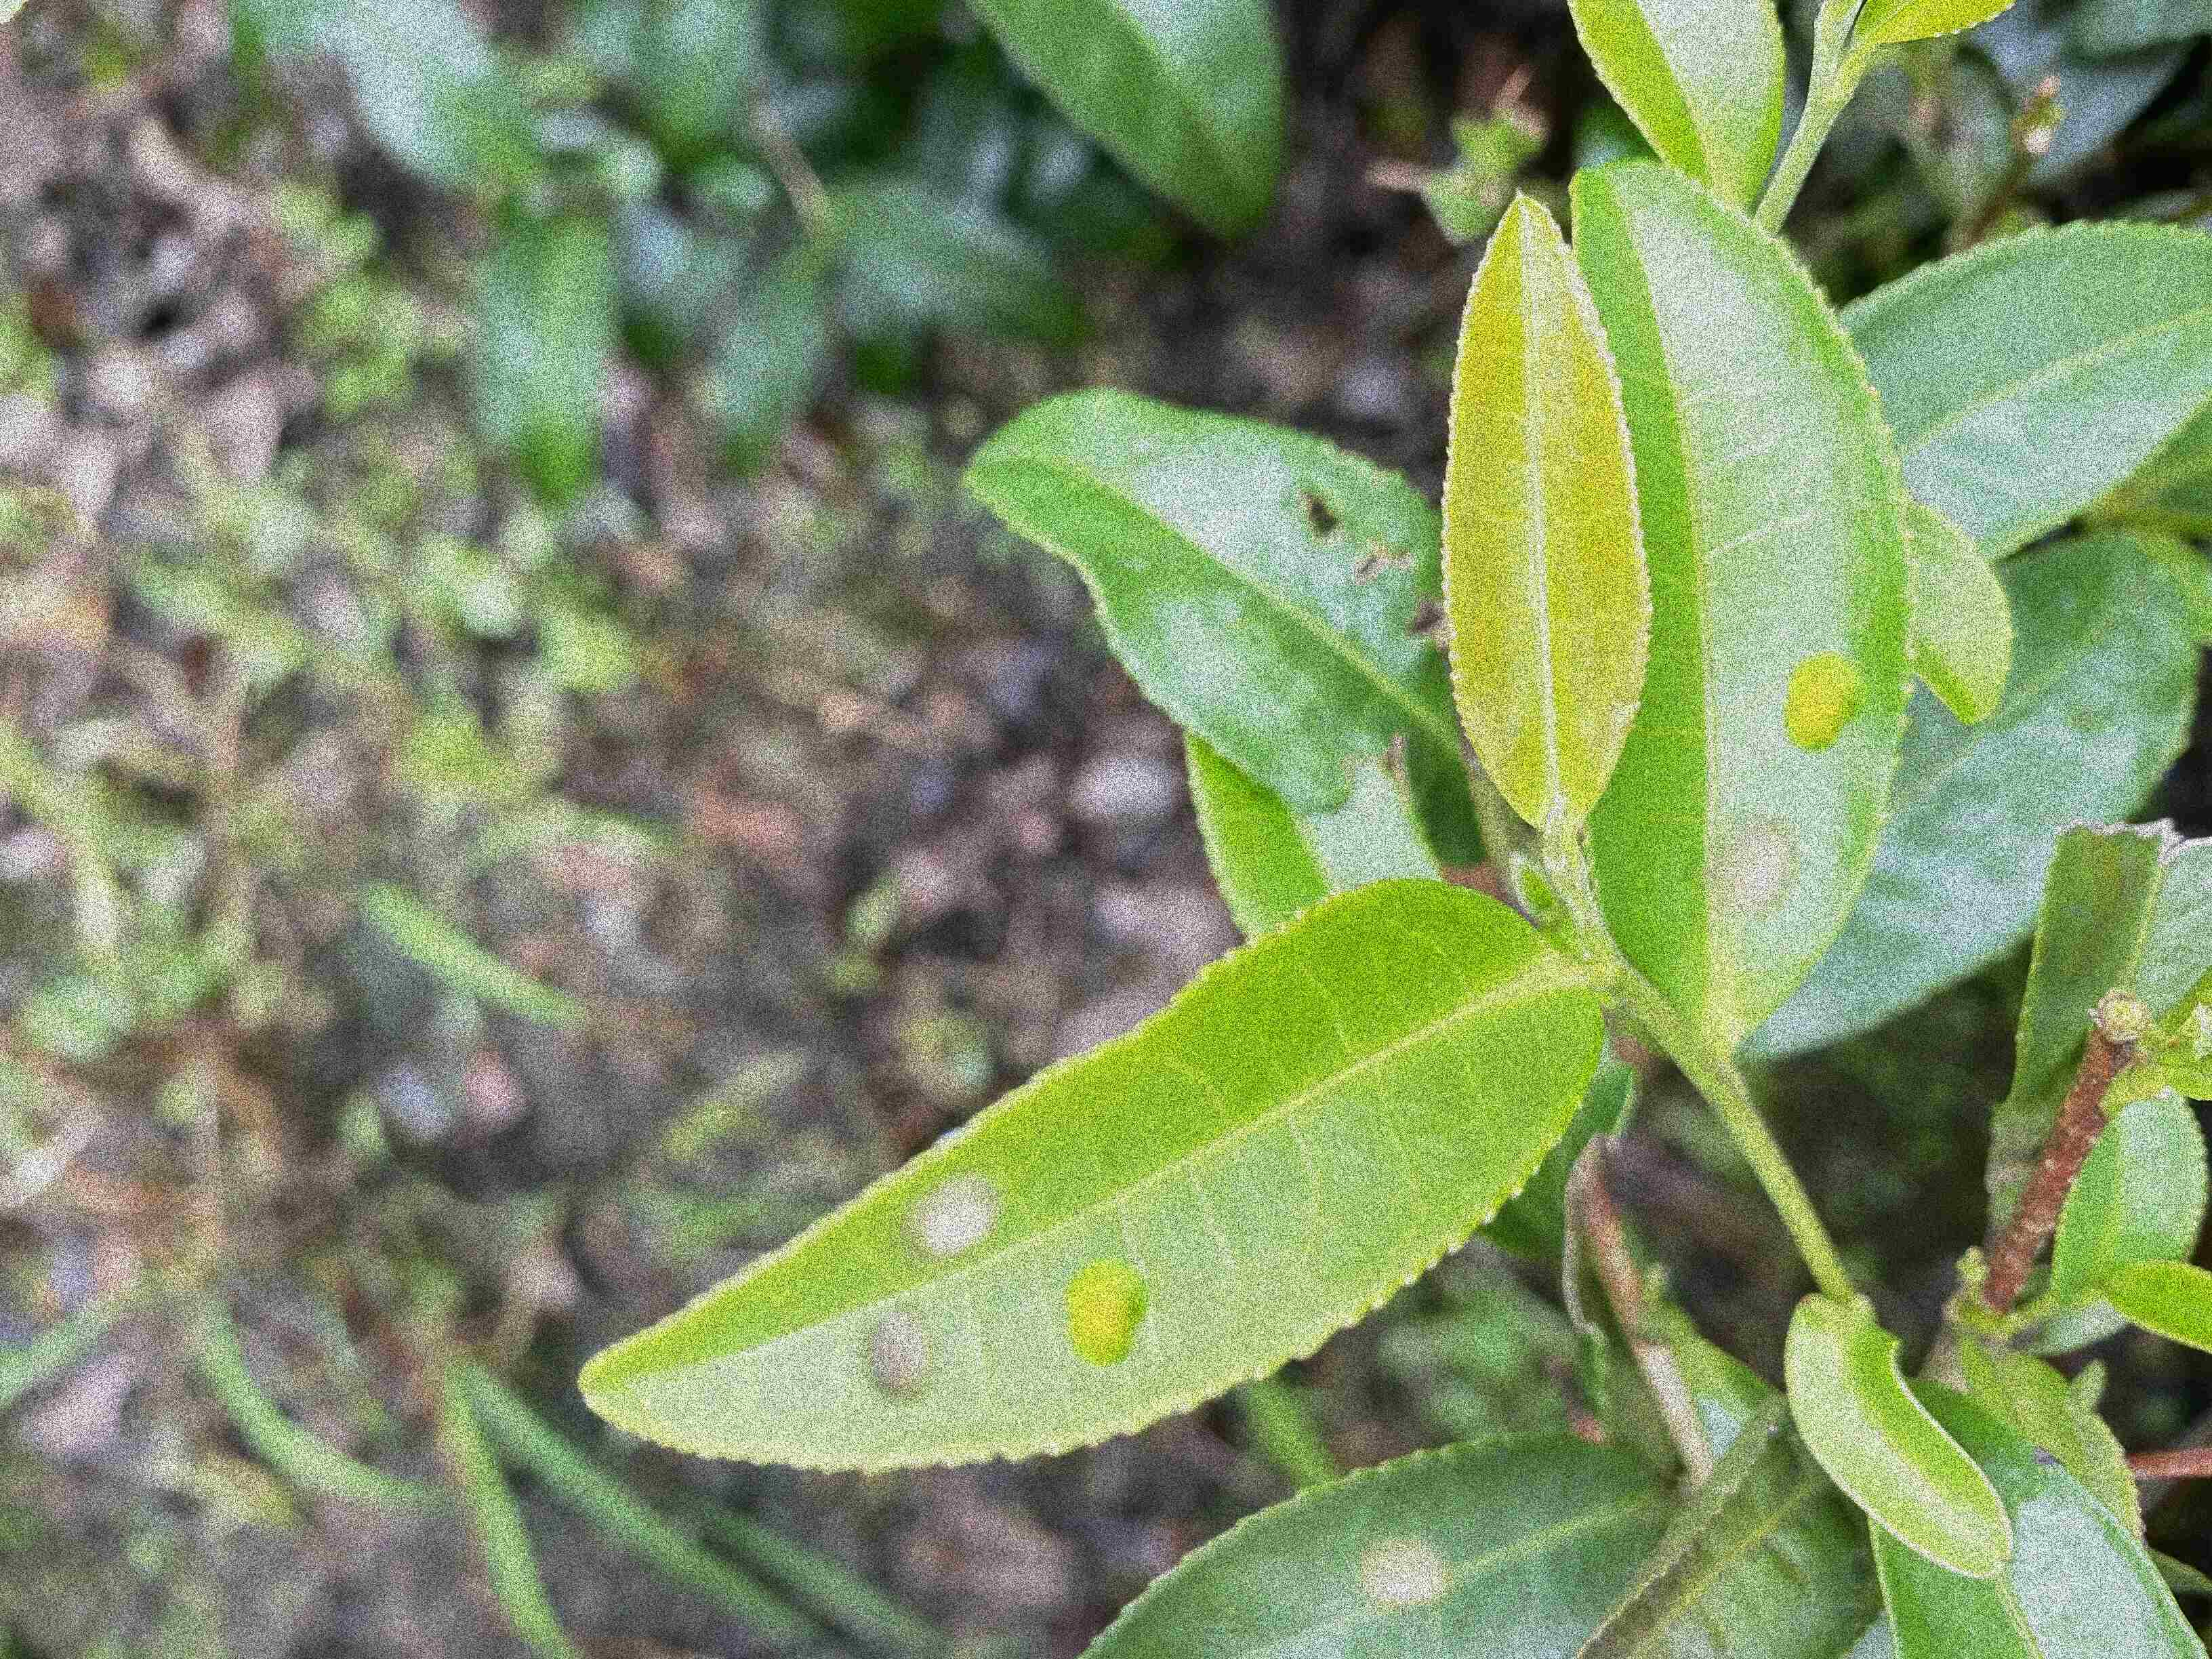chabing_high: (575, 875, 1606, 1481), (1651, 164, 1914, 1065)
chabing_low: (1080, 1420, 1681, 1654)
chihuo_high: (963, 376, 1442, 807), (2006, 807, 2210, 1115)
tanju_low: (1442, 185, 1651, 833), (1871, 1368, 2207, 1652)
